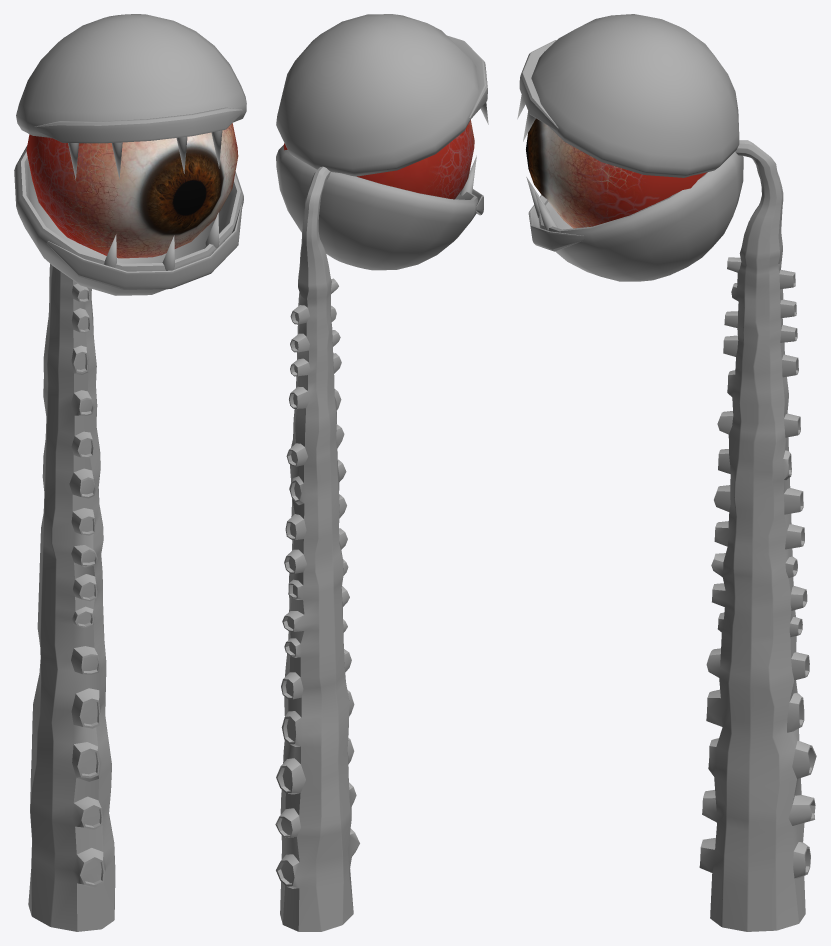
The model's file is SM_Eyeball_Arm_01a.fbx.
3 views of the same model, side by side, from view 1: azimuth 30°, elevation 25°; view 2: azimuth 150°, elevation 25°; view 3: azimuth 270°, elevation 25° (orthographic). The views are drawn at different scales.
Visible parts, largest first — view 1: SM_Body, SM_Eyelid_up, polySurface7, SM_Eyelid_down; view 2: SM_Body, SM_Eyelid_up, SM_Eyelid_down, polySurface7; view 3: SM_Body, SM_Eyelid_up, SM_Eyelid_down, polySurface7.
Part boxes in pixels (x1,y1,x2,y2): SM_Body: (28, 264, 115, 931); SM_Eyelid_up: (16, 14, 246, 179); polySurface7: (26, 123, 238, 258); SM_Eyelid_down: (14, 145, 243, 295); SM_Body: (275, 166, 359, 931); SM_Eyelid_up: (276, 14, 488, 176); SM_Eyelid_down: (276, 145, 483, 270); polySurface7: (283, 119, 474, 199); SM_Body: (699, 140, 816, 931); SM_Eyelid_up: (517, 14, 739, 177); SM_Eyelid_down: (526, 152, 743, 281); polySurface7: (526, 118, 706, 228).
Bounding box in the file's own units: 4.55 × 20.39 × 6.22.
